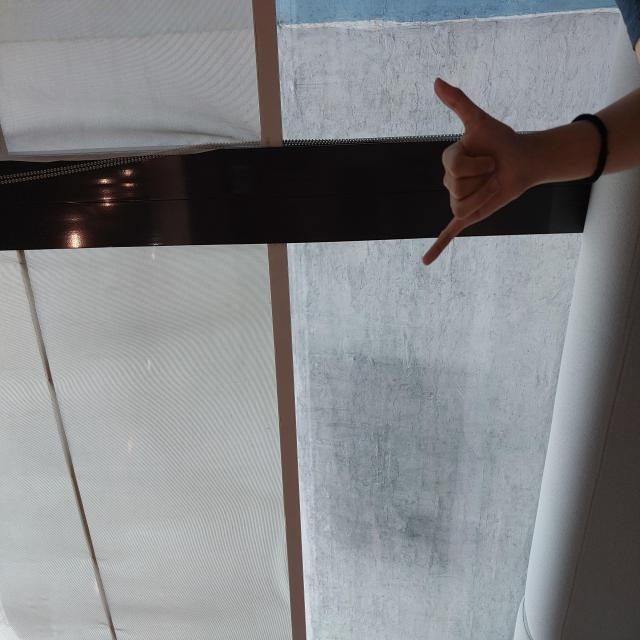Y: (374, 421, 564, 514)
